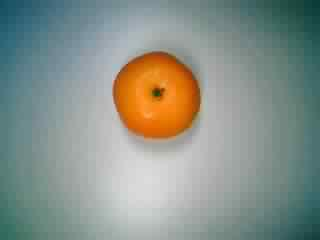orange: (106, 50, 201, 142)
